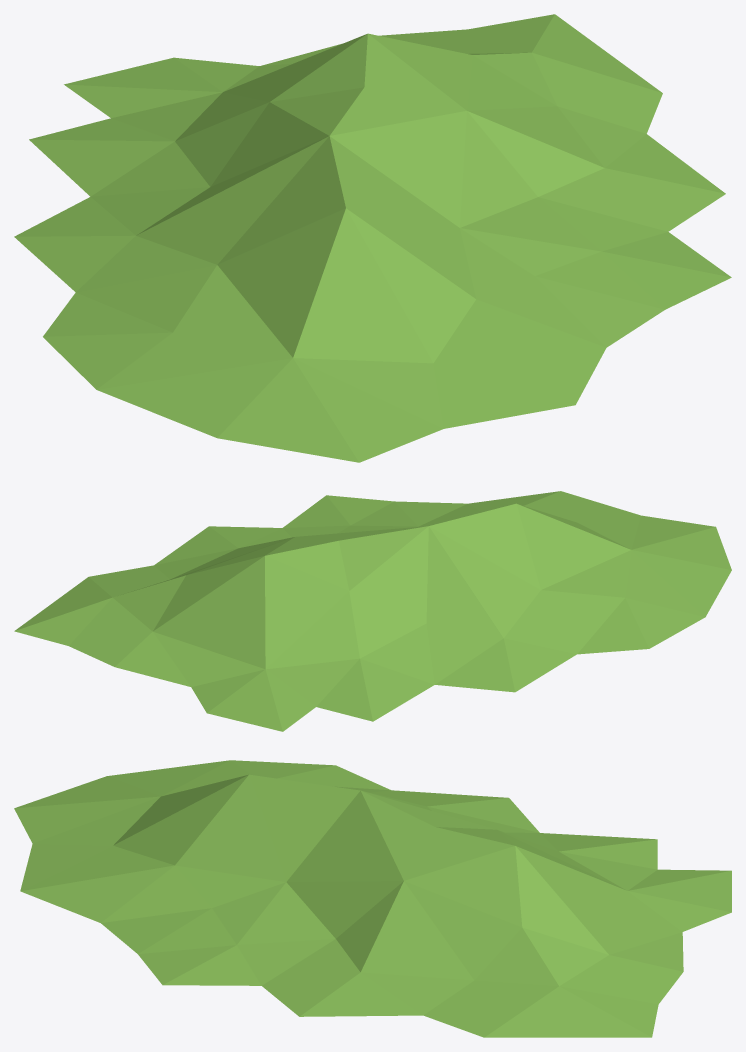
File: MT_Mountain_S_a_10_LOD.fbx
3 views of the same model, one above another, from view 1: azimuth 30°, elevation 25°; view 2: azimuth 150°, elevation 25°; view 3: azimuth 270°, elevation 25° (orthographic). The views are drawn at different scales.
Parts seen in each view (by area): view 1: MT_Mountain_S_a_10_LOD0; view 2: MT_Mountain_S_a_10_LOD0; view 3: MT_Mountain_S_a_10_LOD0.
Part boxes in pixels (<box>): MT_Mountain_S_a_10_LOD0: <box>14,14,731,462</box>; MT_Mountain_S_a_10_LOD0: <box>14,491,731,731</box>; MT_Mountain_S_a_10_LOD0: <box>14,760,731,1037</box>.
Size of what is drawn, in the model's own units: 2070 by 317 by 2266.
